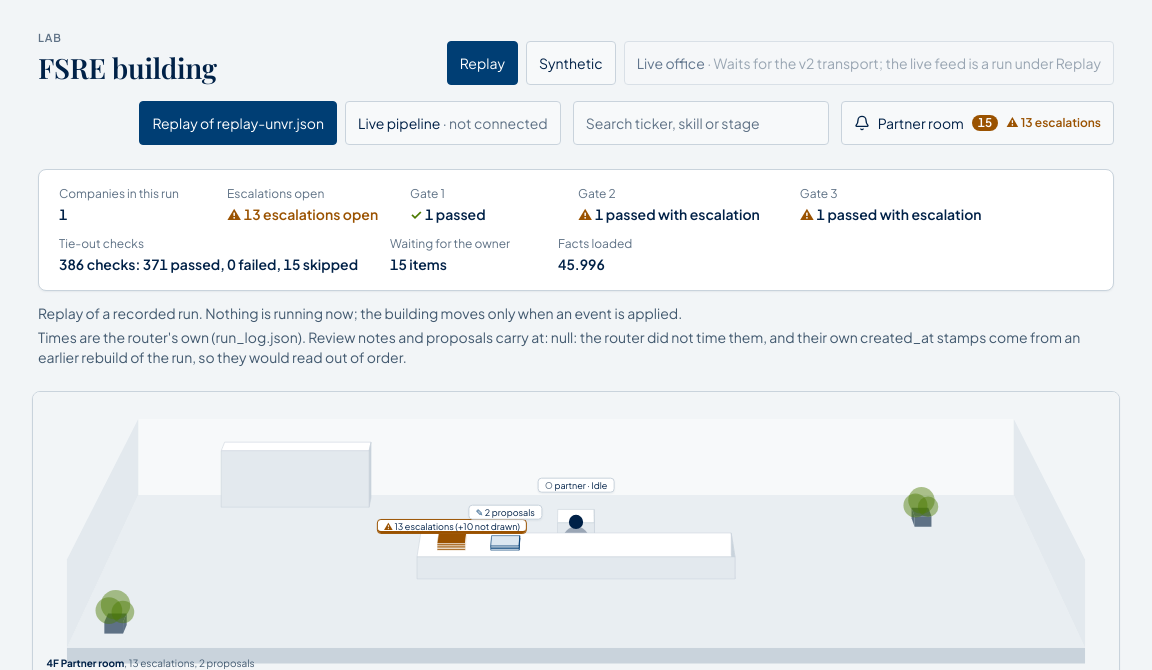
Test: escalations are never softened (rule 3) › locks approval and writes every reason out
Click the button with aria-label "Partner room:" at x=977, y=123, box [841,101,1114,145]
(page scrolled)
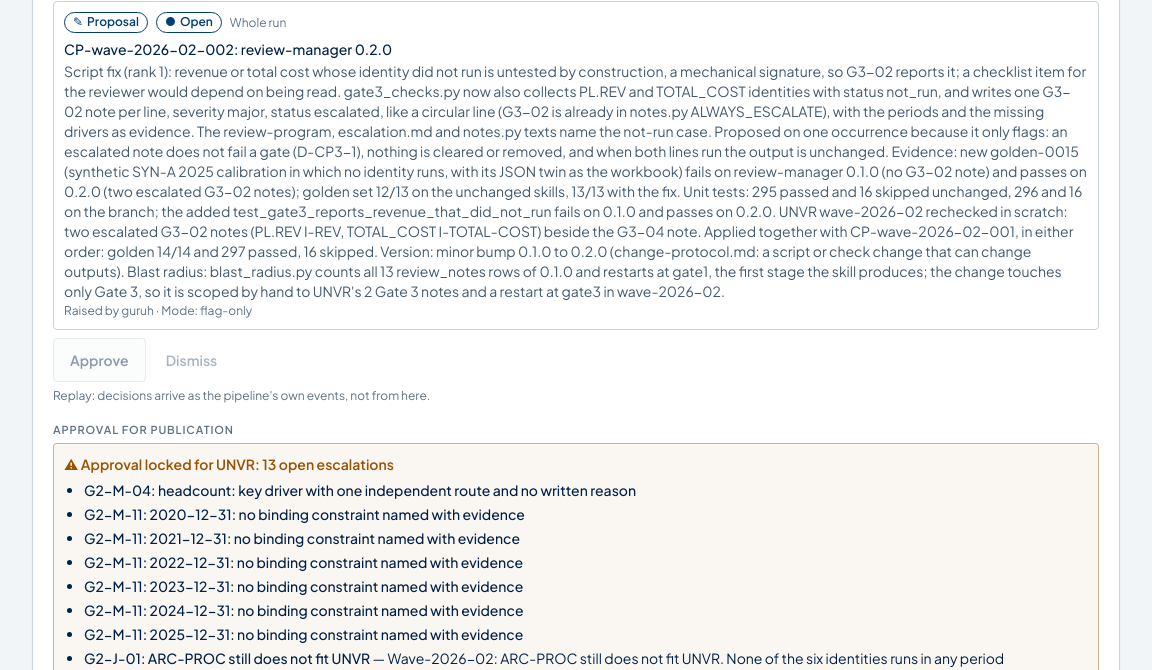
Check: the button "Approve" is disabled, box [53,338,146,382]
